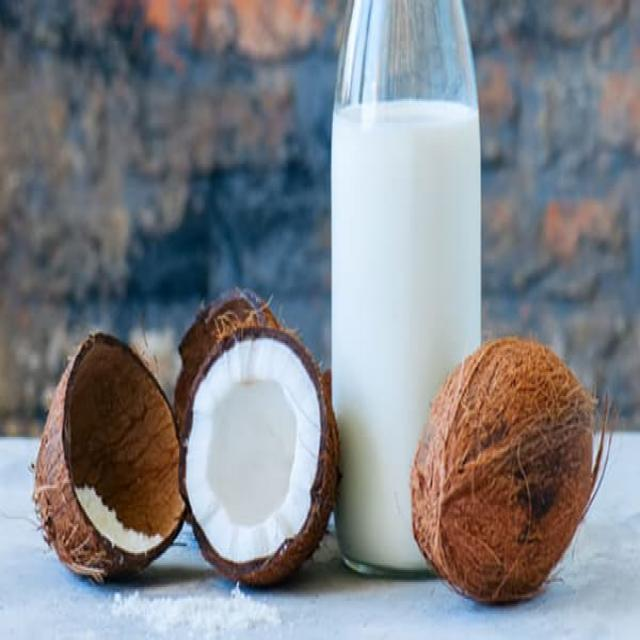coconut: (408, 336, 598, 606), (179, 321, 344, 589)
